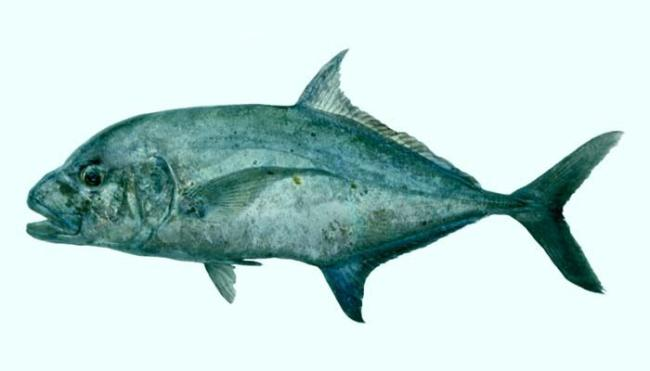fish: (27, 49, 624, 325)
